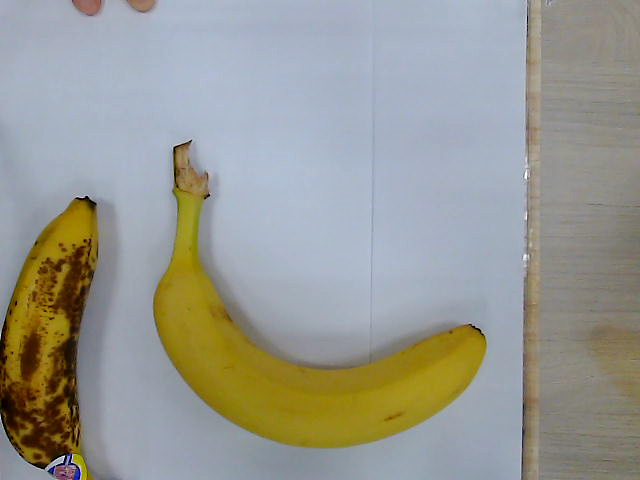fresh_banana: (154, 141, 486, 449)
rotten_banana: (1, 197, 98, 480)
